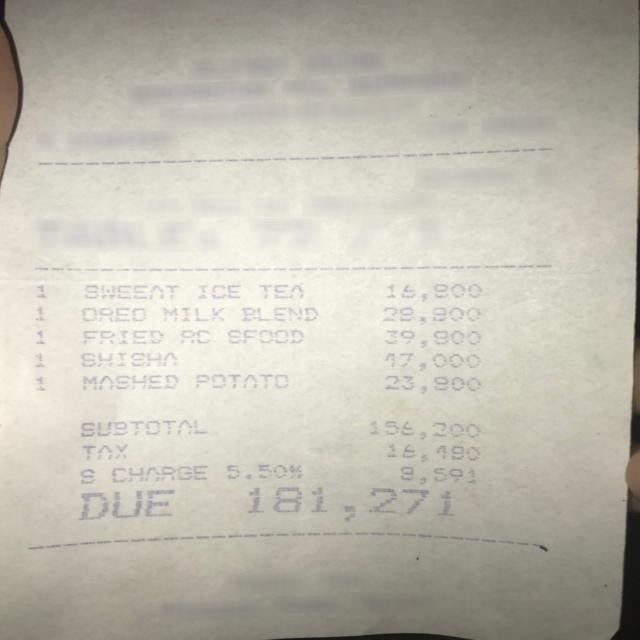text: (246, 486, 454, 518), (77, 488, 174, 520), (77, 420, 206, 437), (366, 419, 480, 438), (386, 442, 480, 462), (381, 306, 485, 324), (385, 373, 481, 392), (385, 352, 482, 370), (387, 281, 483, 299), (74, 350, 175, 367), (109, 465, 209, 482), (385, 329, 482, 346), (195, 372, 289, 388), (82, 373, 179, 388), (225, 463, 304, 480), (240, 306, 318, 323), (398, 466, 476, 483), (84, 284, 178, 298), (75, 329, 160, 344), (74, 306, 146, 322), (227, 328, 302, 343), (162, 306, 224, 322), (81, 444, 128, 460), (198, 284, 240, 298), (259, 284, 302, 297), (180, 330, 209, 342), (77, 467, 95, 483), (34, 305, 46, 320), (33, 352, 44, 368), (34, 283, 46, 297), (33, 376, 45, 390), (33, 329, 44, 344)
